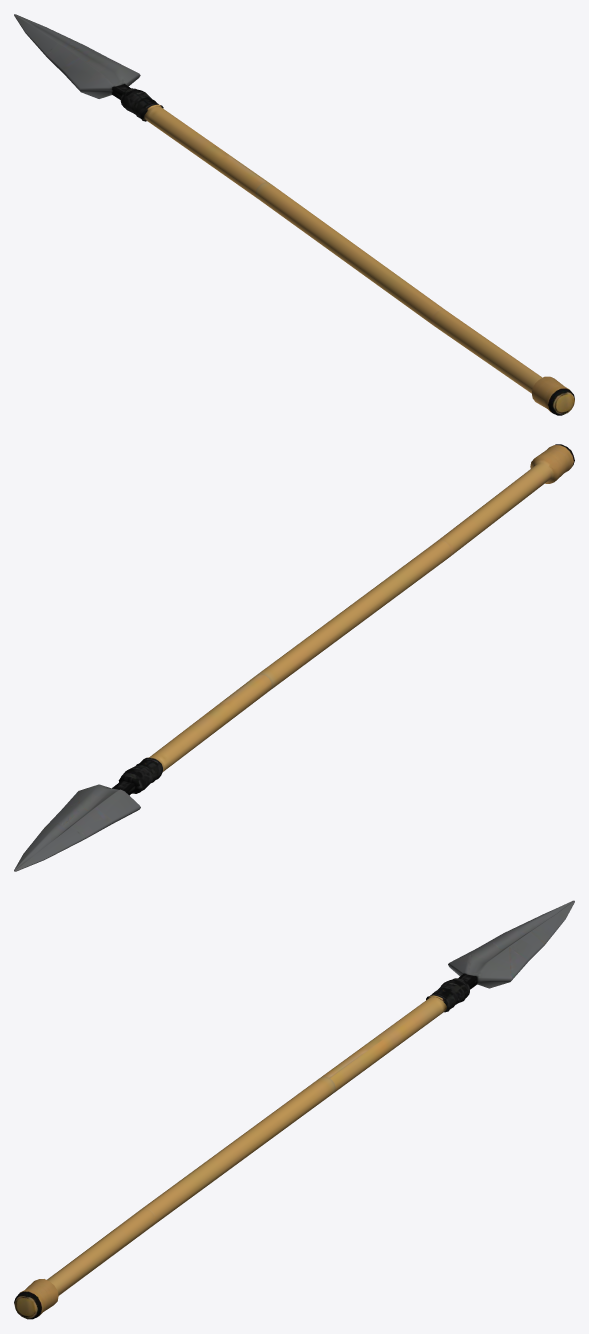
File: javelin.fbx
3 views of the same model, one above another, from view 1: azimuth 30°, elevation 25°; view 2: azimuth 150°, elevation 25°; view 3: azimuth 330°, elevation 25° (orthographic). The views are drawn at different scales.
Visible parts, largest first — view 1: tripo_node_52f7ec99-29a7-44d2-a93b-736bee8ce724; view 2: tripo_node_52f7ec99-29a7-44d2-a93b-736bee8ce724; view 3: tripo_node_52f7ec99-29a7-44d2-a93b-736bee8ce724.
Boxes of the visible parts, x1,y1,x2,y2 form: tripo_node_52f7ec99-29a7-44d2-a93b-736bee8ce724: (14,14,574,415); tripo_node_52f7ec99-29a7-44d2-a93b-736bee8ce724: (14,444,574,871); tripo_node_52f7ec99-29a7-44d2-a93b-736bee8ce724: (14,900,574,1319).
Size of the model in its own units: 0.108 by 0.0532 by 1.64.
1 material, 1 textured.
